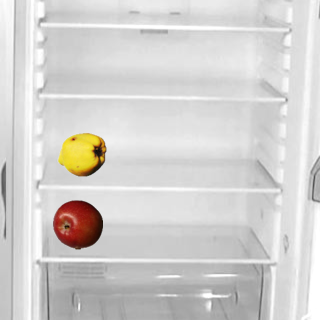Apple Braeburn: (52, 199, 102, 249)
Quince: (56, 129, 106, 179)
